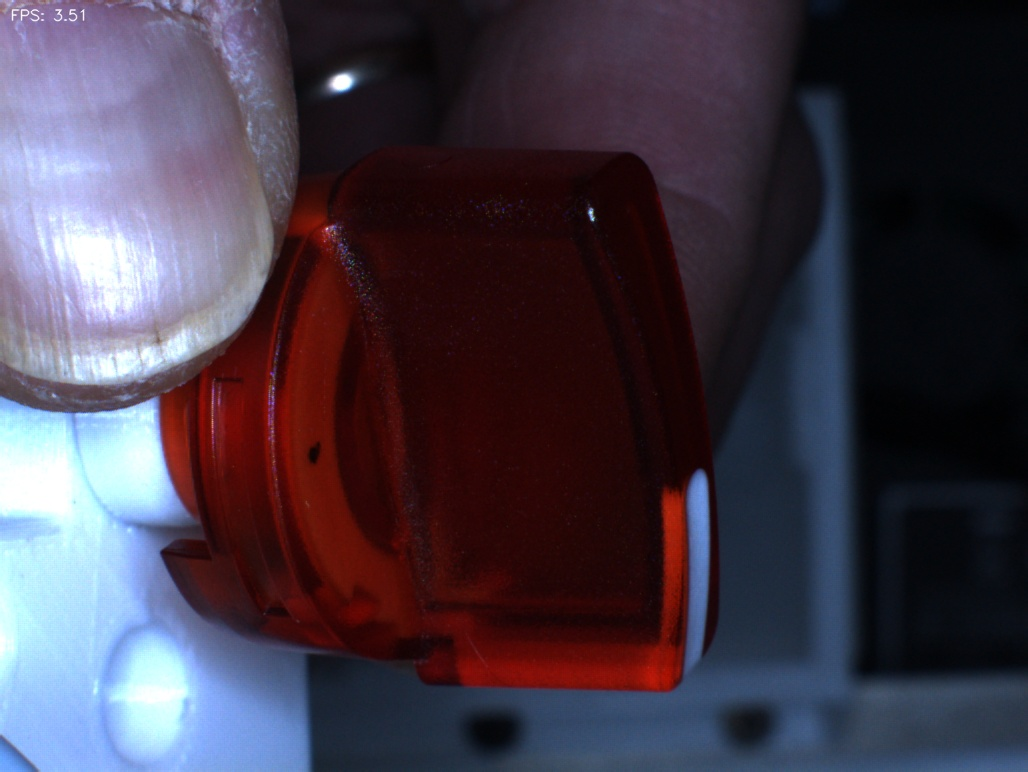PointNoir: (273, 411, 352, 497)
